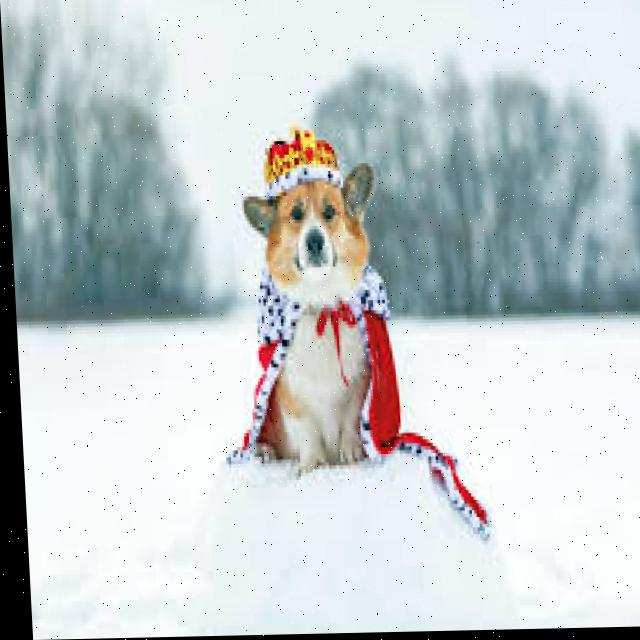CORGI: (237, 170, 385, 485)
